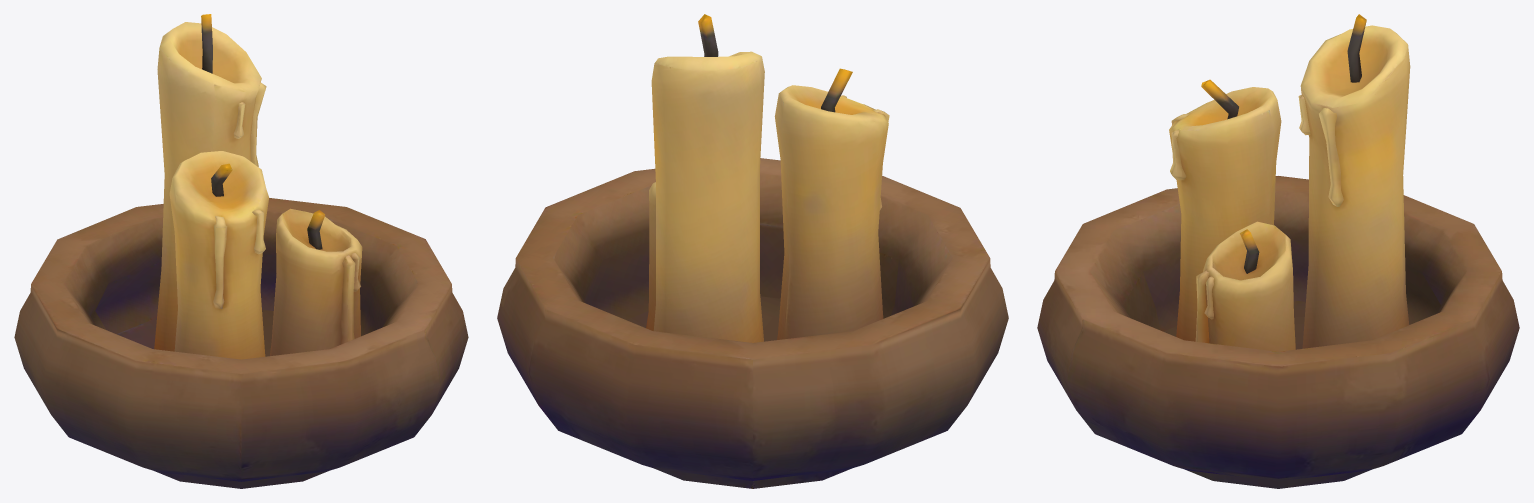
The model's file is bowl_of_candles.glb.
3 renders of one model, left to right at view 1: azimuth 30°, elevation 25°; view 2: azimuth 150°, elevation 25°; view 3: azimuth 270°, elevation 25°, orthographic. The views are drawn at different scales.
Visible parts, largest first — view 1: Body_lambert1_0; view 2: Body_lambert1_0; view 3: Body_lambert1_0.
Part boxes in pixels (x1,y1,x2,y2): Body_lambert1_0: (14,14,468,488); Body_lambert1_0: (497,14,1008,488); Body_lambert1_0: (1037,14,1519,488).
Bounding box in the file's own units: 51.82 × 49.58 × 51.29.
1 material, 1 textured.
